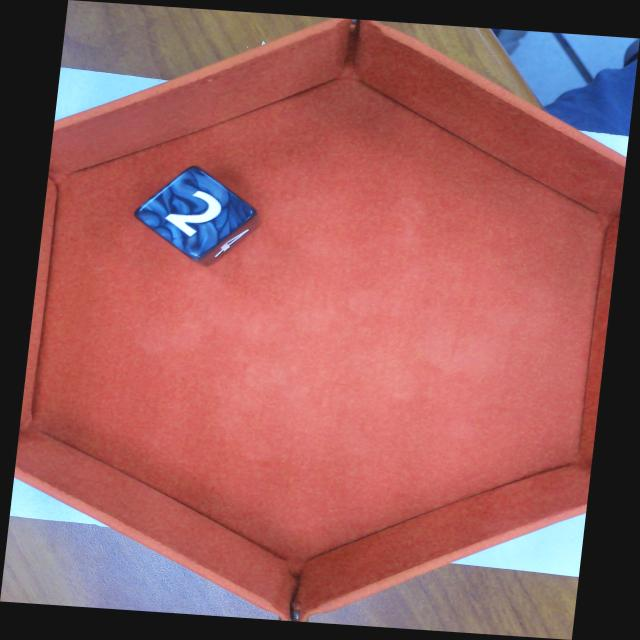dice: (136, 168, 259, 257)
